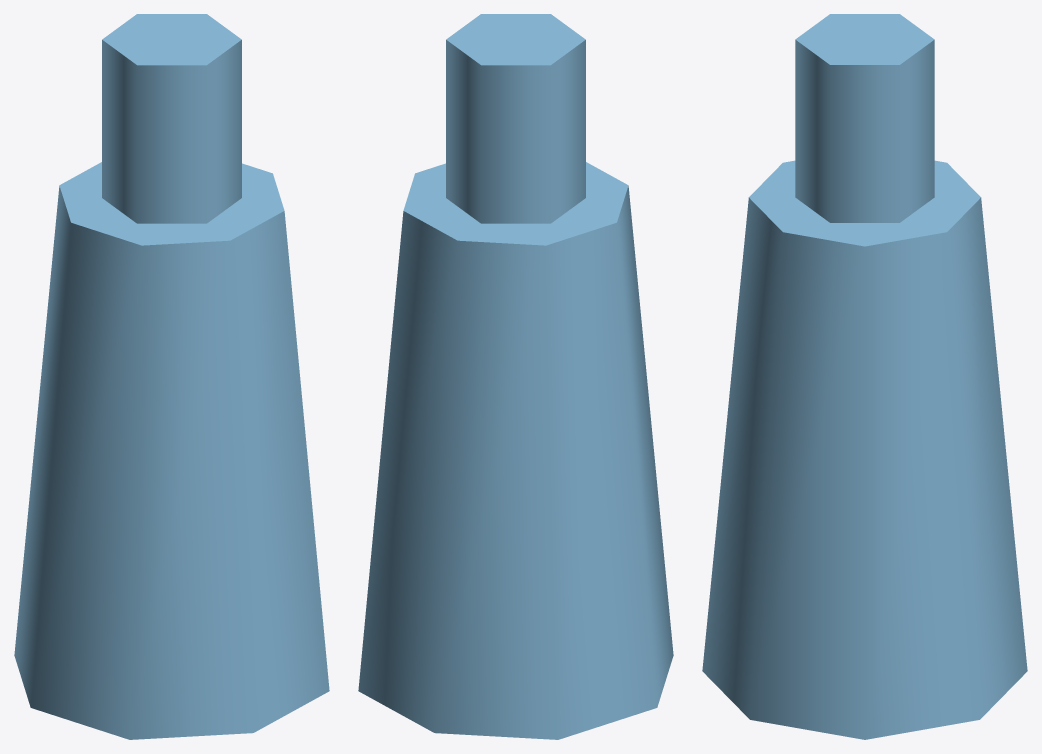
Rendered from bottle.glb.
3 views of the same model, side by side, from view 1: azimuth 30°, elevation 25°; view 2: azimuth 150°, elevation 25°; view 3: azimuth 270°, elevation 25° (orthographic).
Visible parts, largest first — view 1: bottle; view 2: bottle; view 3: bottle.
Part boxes in pixels (bbox=[...]): bottle: bbox=[14, 14, 329, 739]; bottle: bbox=[358, 14, 673, 739]; bottle: bbox=[702, 14, 1027, 739].
Size of the model in its own units: 0.28 by 0.6 by 0.28.
